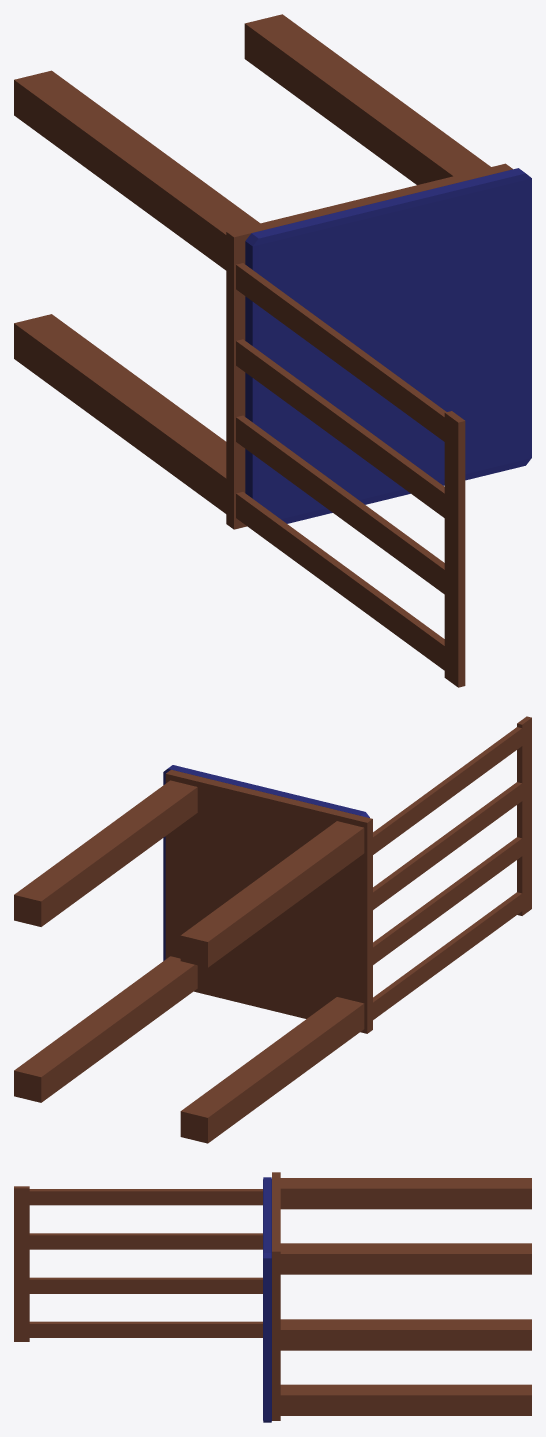
Rendered from Chair.fbx.
The picture shows the model from 3 angles, top to bottom: view 1: azimuth 30°, elevation 25°; view 2: azimuth 150°, elevation 25°; view 3: azimuth 270°, elevation 25°; orthographic projection. The views are drawn at different scales.
Parts seen in each view (by area): view 1: Cube.106; view 2: Cube.106; view 3: Cube.106.
Part boxes in pixels (bbox=[...]): Cube.106: bbox=[14, 14, 531, 687]; Cube.106: bbox=[14, 716, 531, 1143]; Cube.106: bbox=[14, 1172, 531, 1422].
Size of the model in its own units: 115 by 111 by 307.
